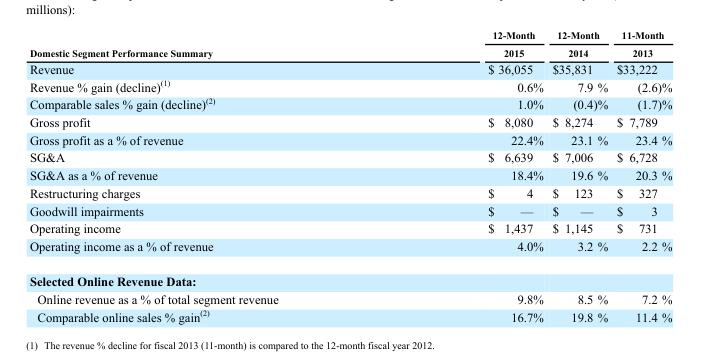table: (28, 29, 671, 323)
table column: (28, 29, 382, 323), (382, 29, 547, 323), (547, 29, 611, 323), (611, 29, 671, 323)
table column header: (28, 29, 671, 59)
table projected row header: (28, 263, 671, 289)
table row: (28, 29, 671, 59), (28, 236, 671, 263), (28, 263, 671, 289), (28, 94, 671, 113), (28, 76, 671, 94), (28, 130, 671, 148), (28, 148, 671, 166), (28, 183, 671, 201), (28, 201, 671, 219), (28, 59, 671, 76), (28, 113, 671, 130), (28, 166, 671, 183), (28, 219, 671, 236), (28, 289, 671, 306), (28, 306, 671, 323)
